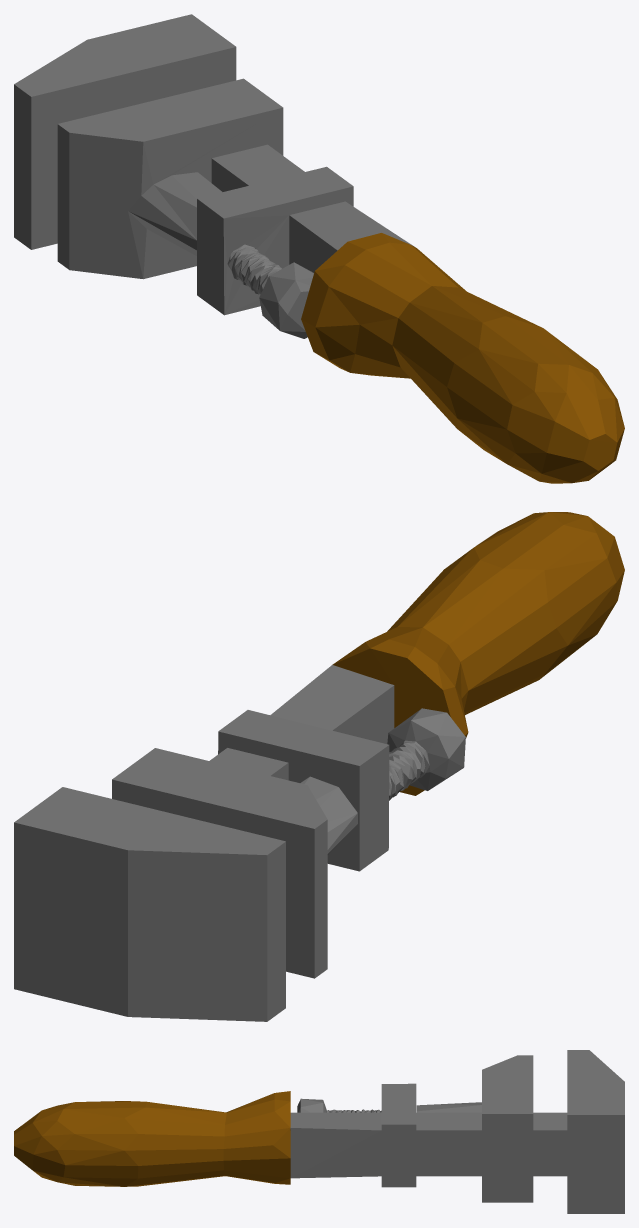
Rendered from WrenchV2.fbx.
3 views of the same model, one above another, from view 1: azimuth 30°, elevation 25°; view 2: azimuth 150°, elevation 25°; view 3: azimuth 270°, elevation 25° (orthographic). The views are drawn at different scales.
Parts seen in each view (by area): view 1: Handle; view 2: Handle; view 3: Handle.
Boxes of the visible parts, bbox=[...] form: Handle: bbox=[14, 14, 624, 483]; Handle: bbox=[14, 512, 624, 1021]; Handle: bbox=[14, 1050, 624, 1213].
Size of the model in its own units: 107 by 76.18 by 426.
